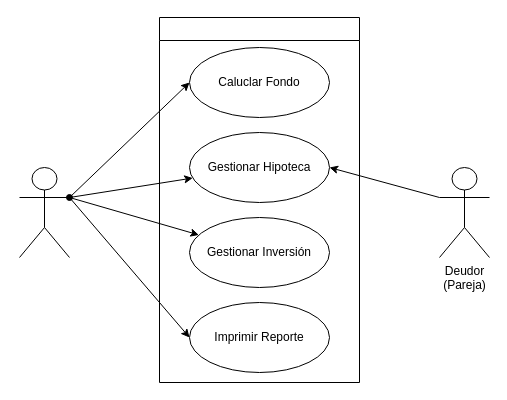
Image size: 507x400. Some labels were removed from this diagram. Here are the shapes that lost their labels. From the top down, the box of each, then its label:
(18, 166, 70, 258): Empleado MSG-F
(158, 16, 360, 382): MSG-F
